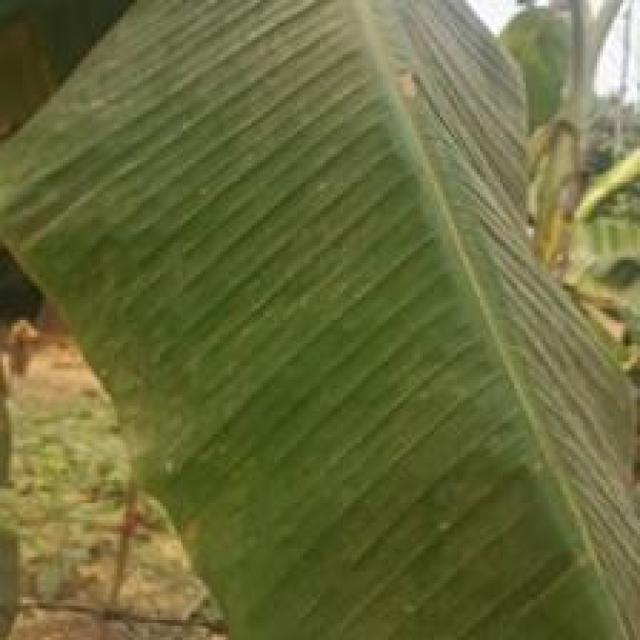Black_leaf_spot: (0, 0, 562, 582)
